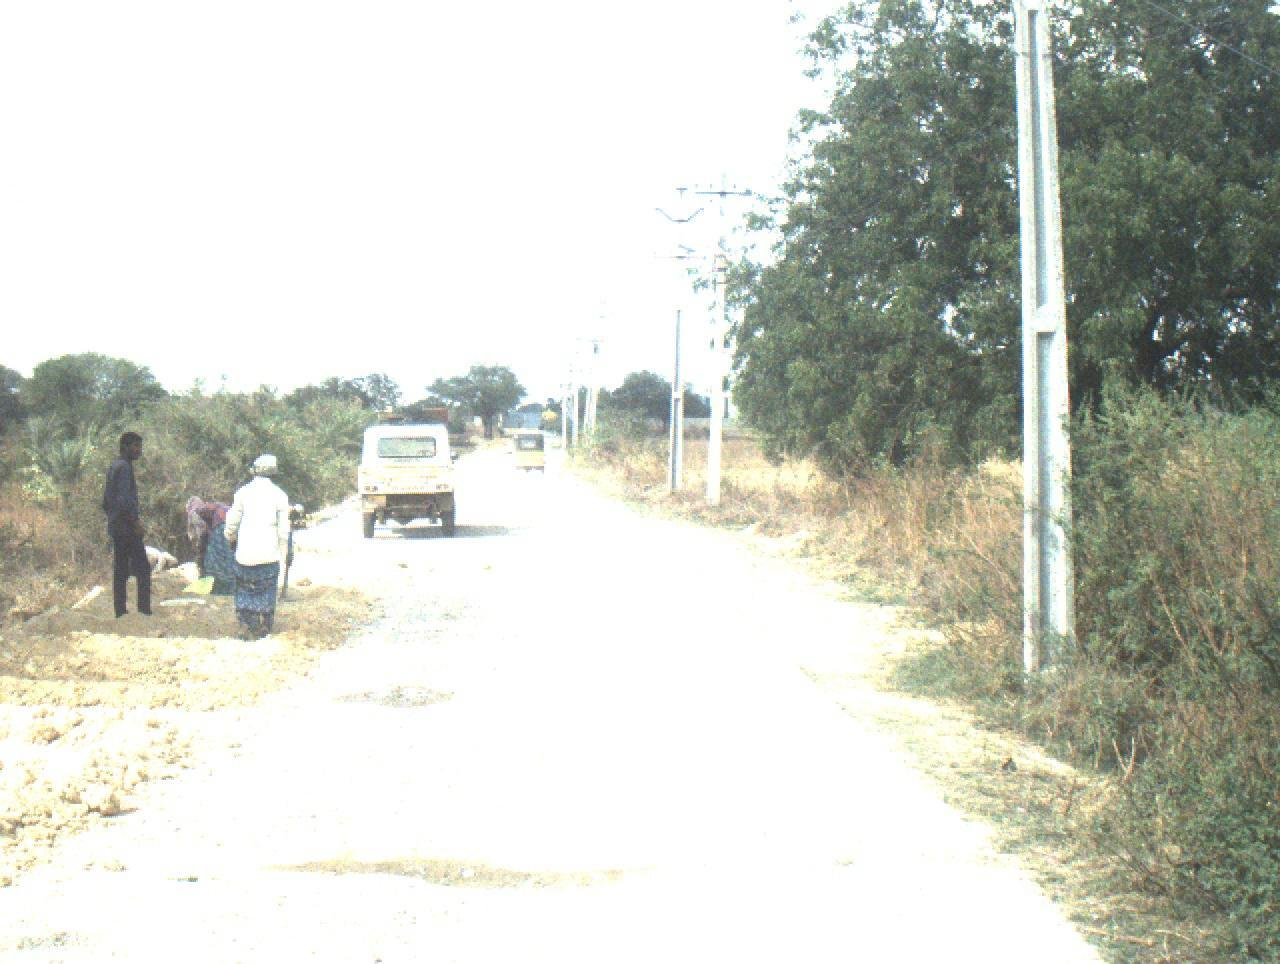off: (20, 0, 1031, 912)
